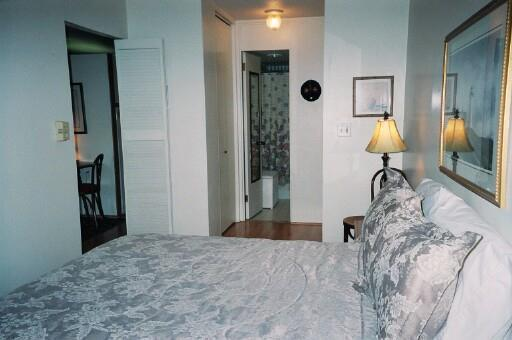Armario: (216, 18, 237, 229)
Cama: (4, 170, 509, 339)
Puerta: (116, 39, 166, 230), (243, 55, 261, 213)
